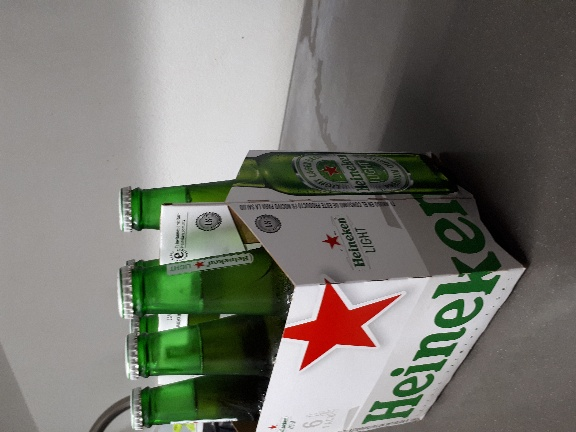HLB: (166, 107, 317, 141), (222, 148, 283, 198), (112, 176, 186, 204)
